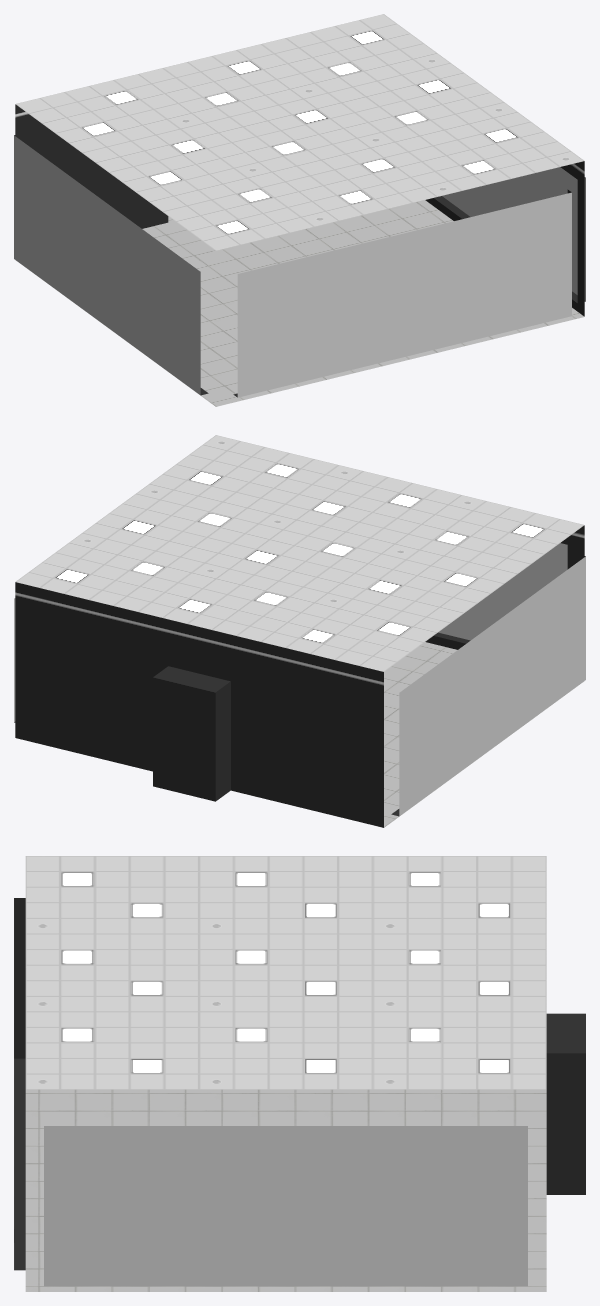
File: VR_Room.fbx
3 renders of one model, top to bottom at view 1: azimuth 30°, elevation 25°; view 2: azimuth 150°, elevation 25°; view 3: azimuth 270°, elevation 25°, orthographic. The views are drawn at different scales.
Visible parts, largest first — view 1: Roof, front_wall, Right_wall, Ground, Left_wall, Entrance_wall; view 2: Roof, Entrance_wall, Right_wall, front_wall, Ground; view 3: Roof, Left_wall, Ground, Entrance_wall, front_wall.
Boxes of the visible parts, box(x1,y1,x2,y2) form: Roof: box(15, 14, 584, 250); front_wall: box(233, 189, 571, 397); Right_wall: box(14, 133, 208, 395); Ground: box(17, 200, 584, 406); Left_wall: box(425, 161, 585, 316); Entrance_wall: box(15, 104, 168, 228); Roof: box(15, 435, 584, 671); Entrance_wall: box(15, 582, 383, 827); Right_wall: box(391, 554, 585, 816); front_wall: box(425, 525, 584, 649); Ground: box(384, 642, 582, 827); Roof: box(25, 856, 546, 1089); Left_wall: box(44, 1126, 527, 1286); Ground: box(25, 1089, 546, 1291); Entrance_wall: box(546, 1013, 585, 1194); front_wall: box(14, 898, 25, 1270).
Bounding box in the file's own units: 809 × 316 × 817.
